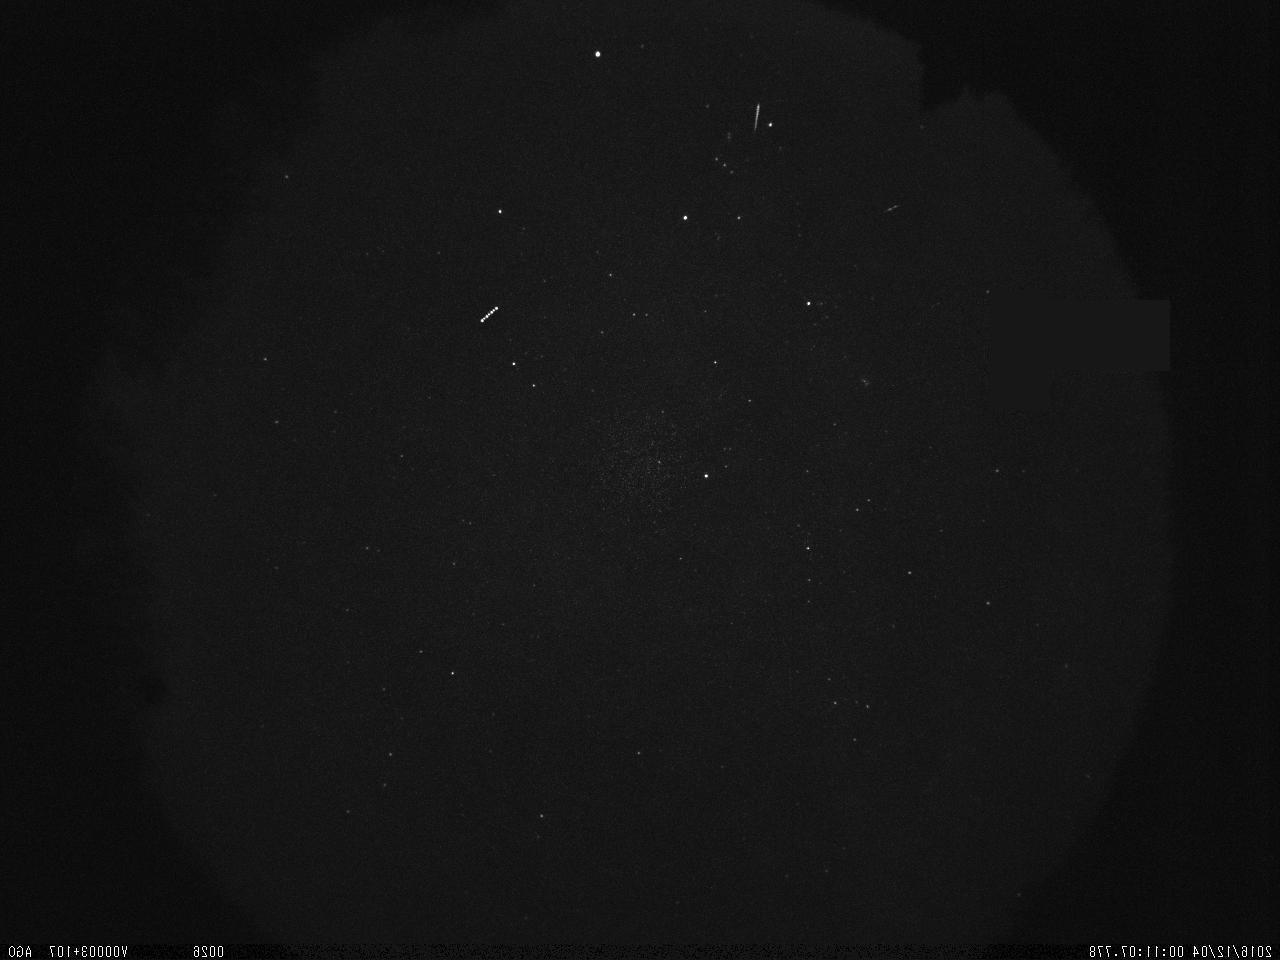meteor: (746, 98, 766, 142)
satelite: (474, 296, 506, 332)
